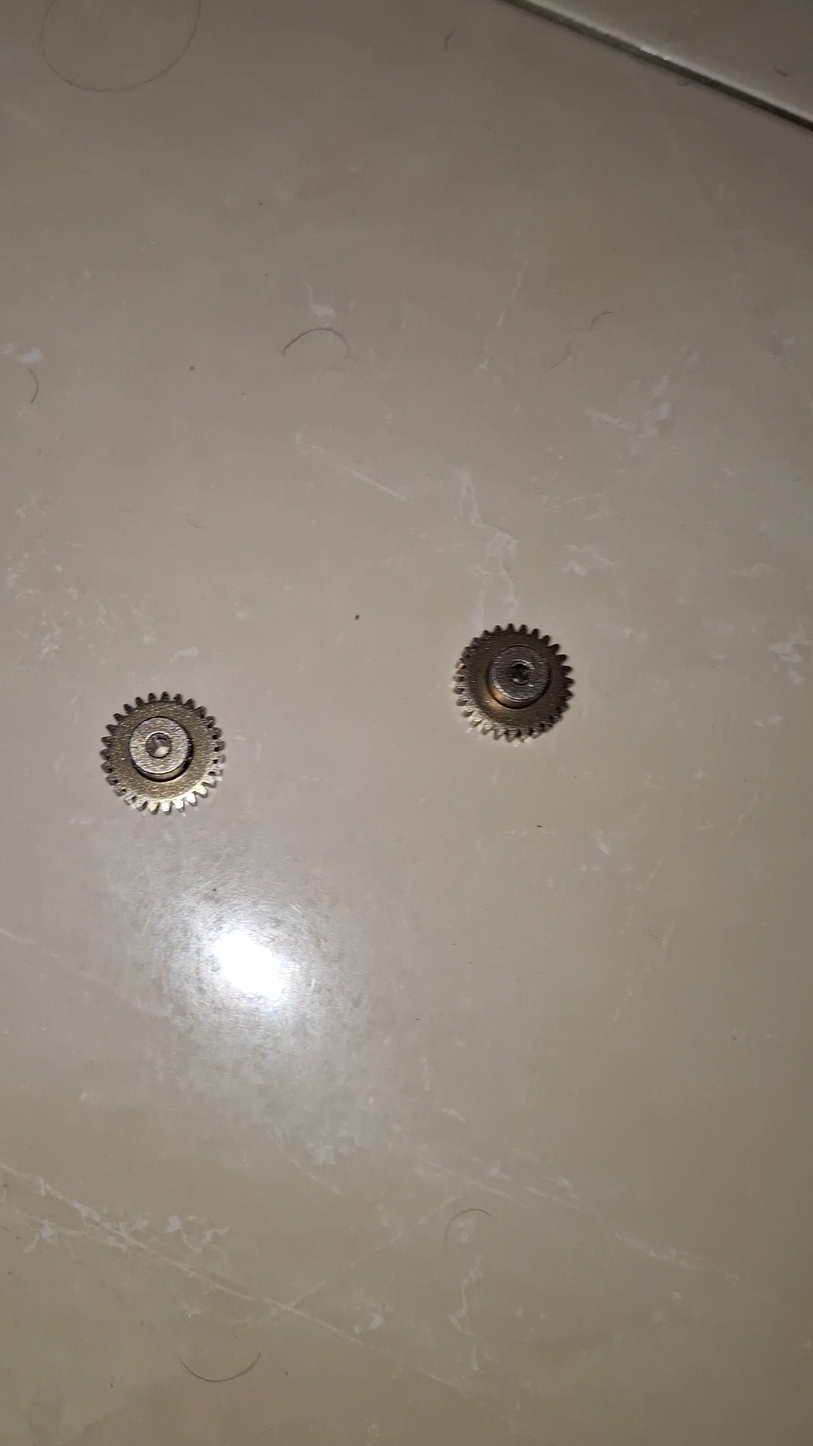spur gear: (102, 692, 224, 813), (453, 625, 572, 740)
